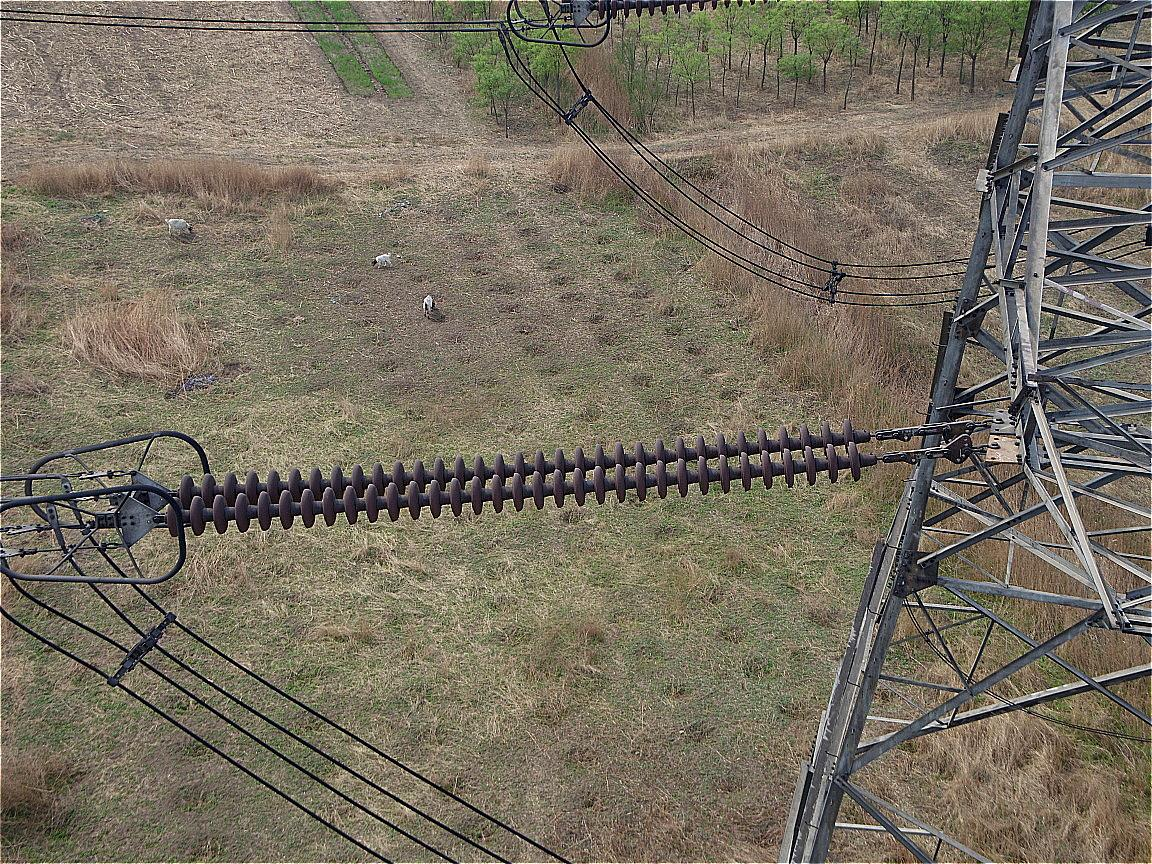insultor1: (143, 406, 885, 554)
